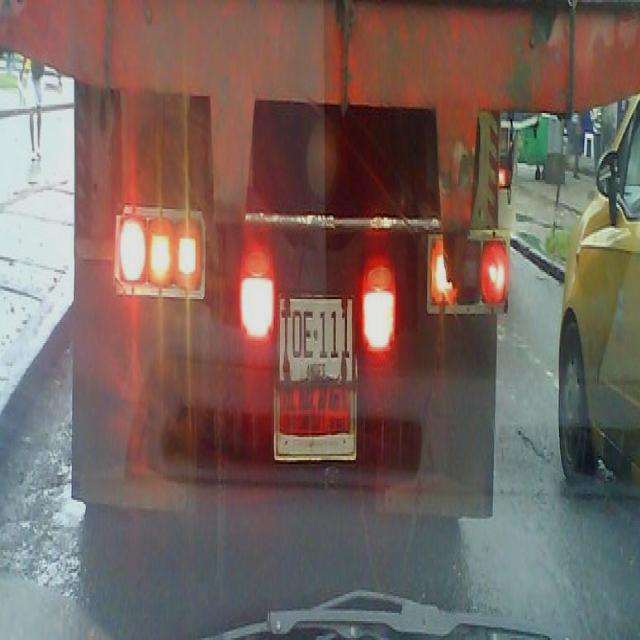placa: (275, 284, 356, 396)
